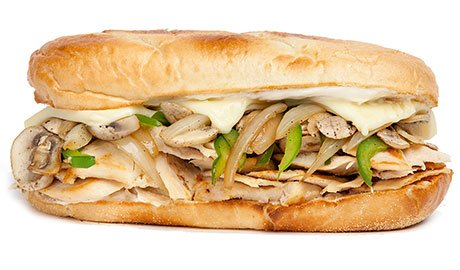soup: (14, 29, 451, 241)
